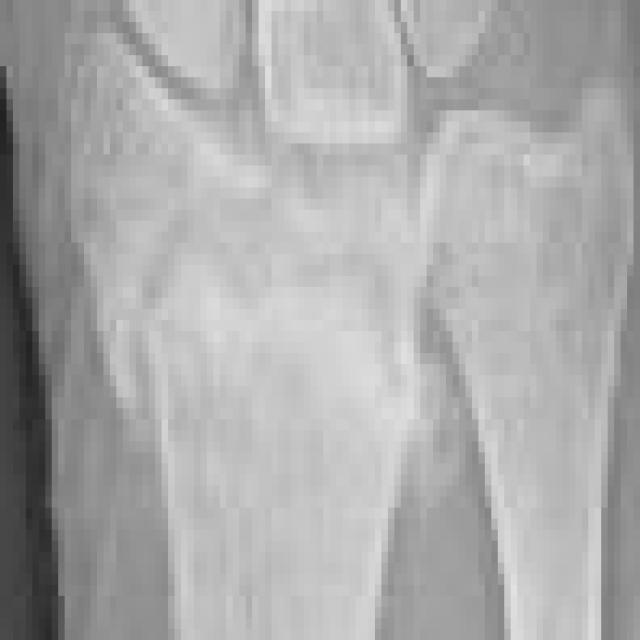fracture: (5, 6, 640, 640)
